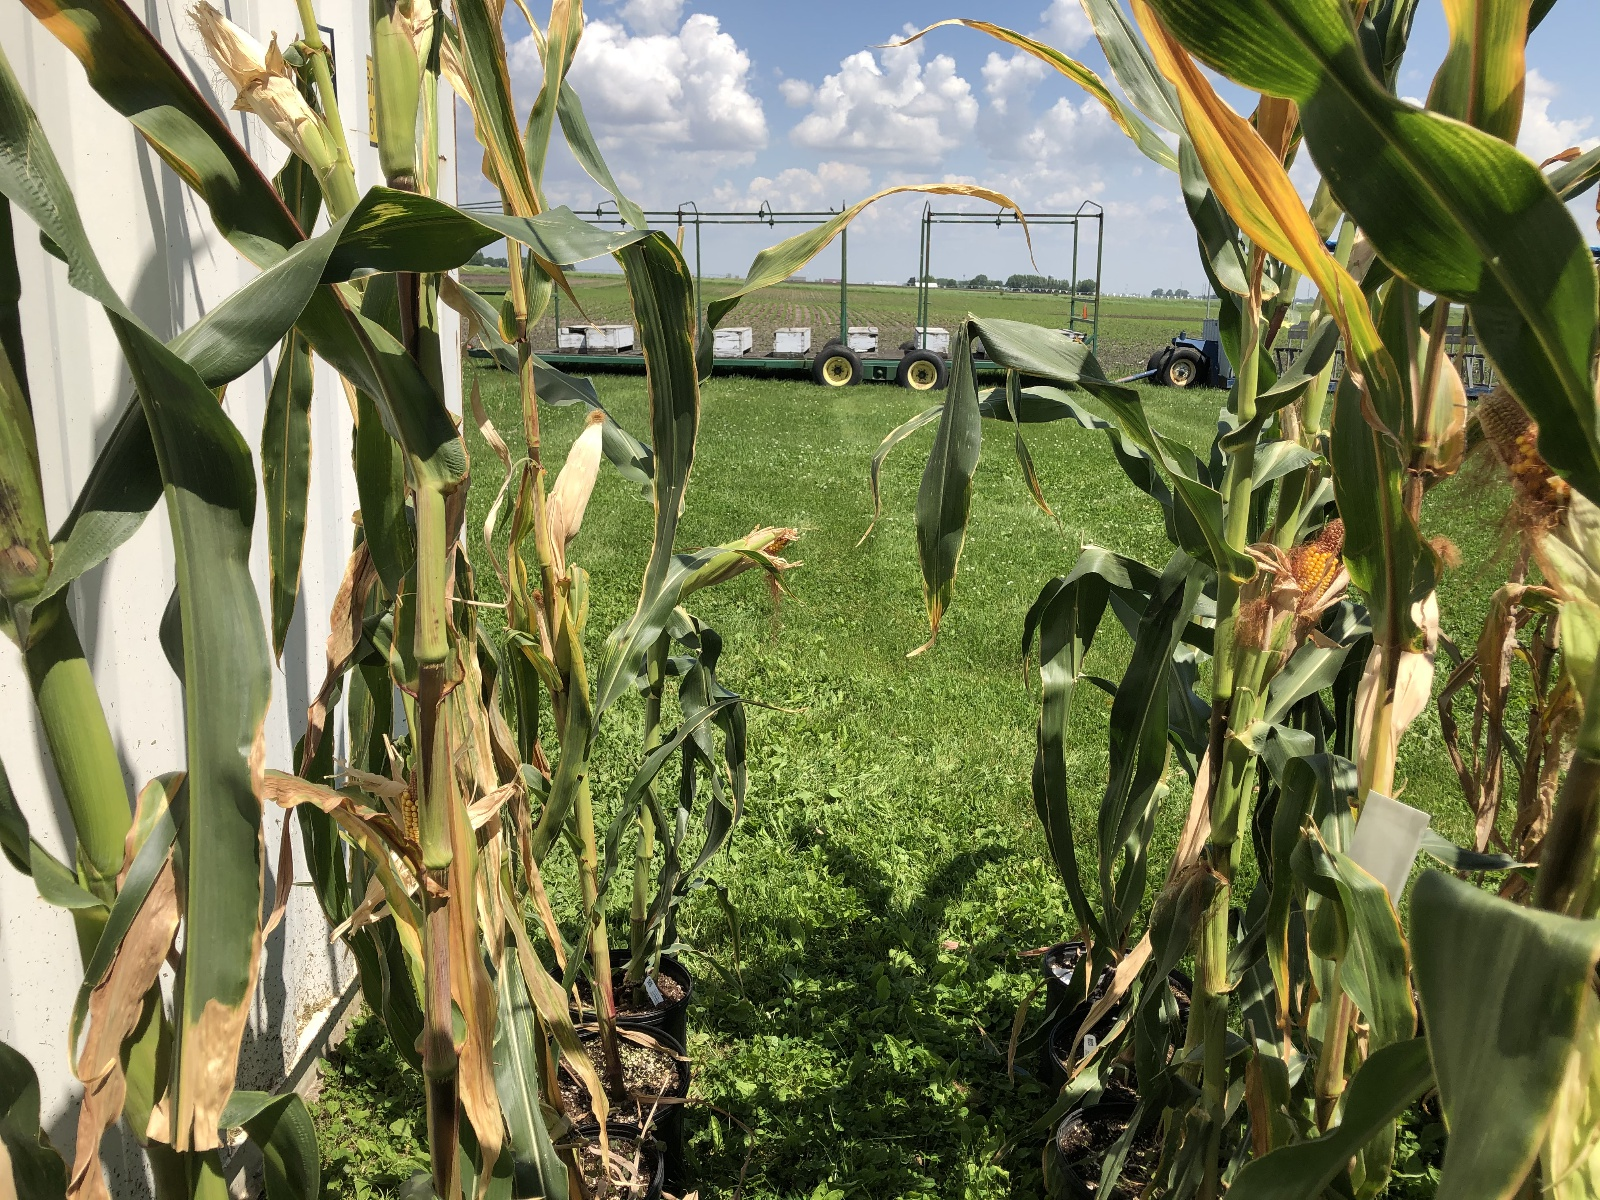ear: (179, 1, 324, 158), (1466, 377, 1590, 521), (1264, 509, 1352, 634), (674, 524, 805, 599), (540, 398, 606, 534), (389, 760, 431, 876)
